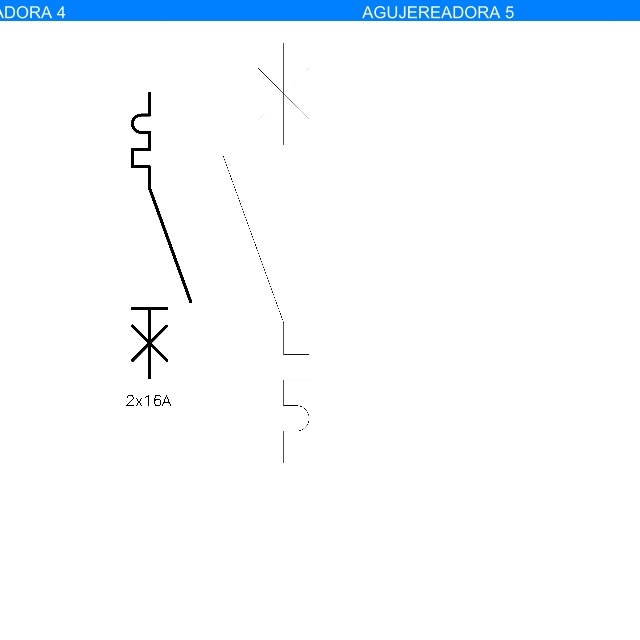interruptor_termomagnetico: (212, 32, 320, 474), (125, 86, 198, 385)
